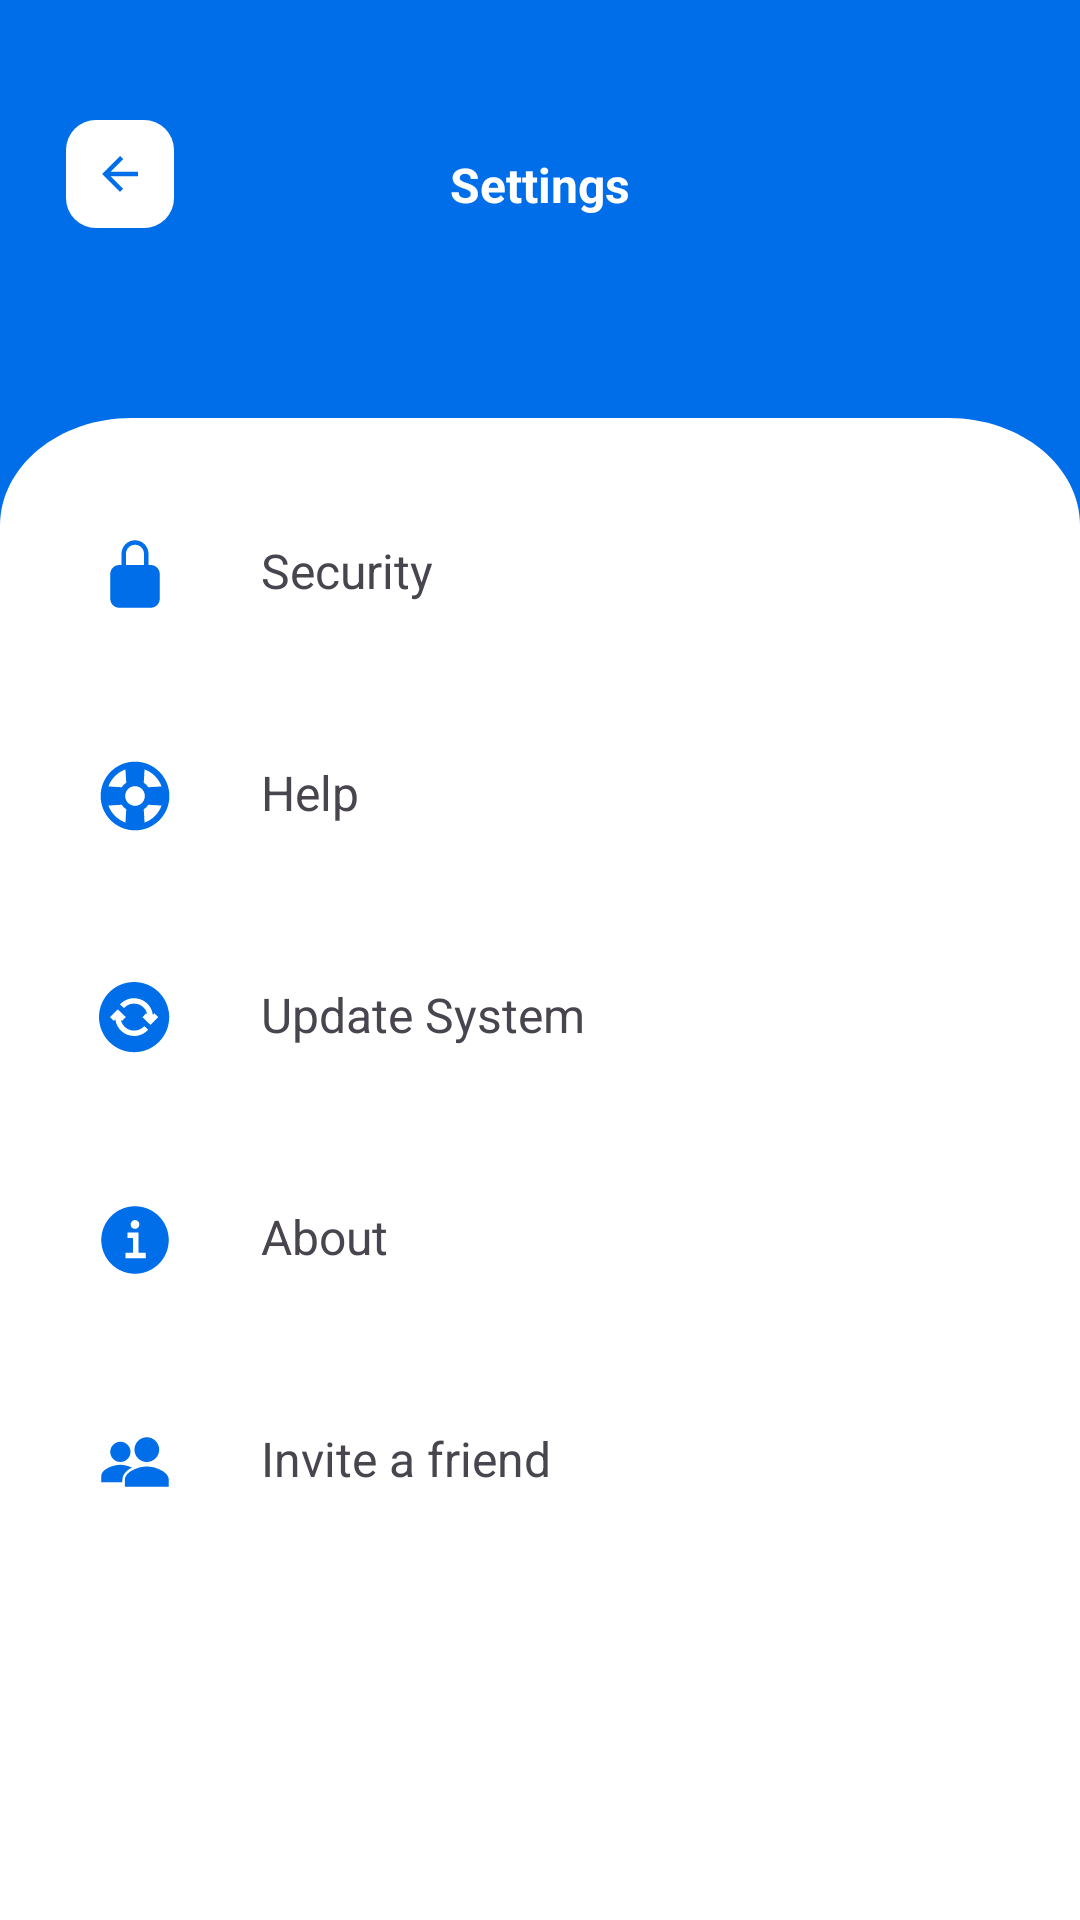

Named icons in this screenshot (1080*1920) and their bounding boxes, (x1, y1, x2, y2):
bacwhite: (66, 120, 174, 228)
sequrity: (110, 540, 160, 608)
